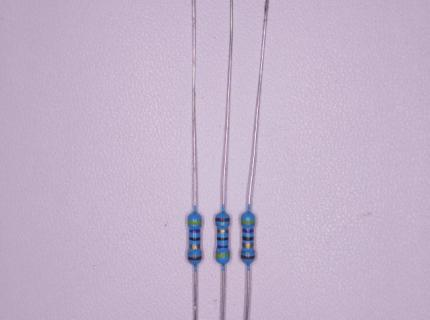Black band: (216, 237, 228, 242), (242, 236, 254, 241), (217, 245, 229, 249), (189, 237, 200, 241)
Brown band: (187, 255, 202, 261), (240, 255, 256, 260), (215, 218, 230, 223)
Gold band: (217, 229, 229, 234), (242, 243, 254, 248), (189, 245, 200, 250)
Violet band: (242, 228, 254, 233), (189, 229, 201, 233)
Yellow band: (216, 252, 230, 258), (241, 219, 256, 224), (187, 220, 202, 225)
